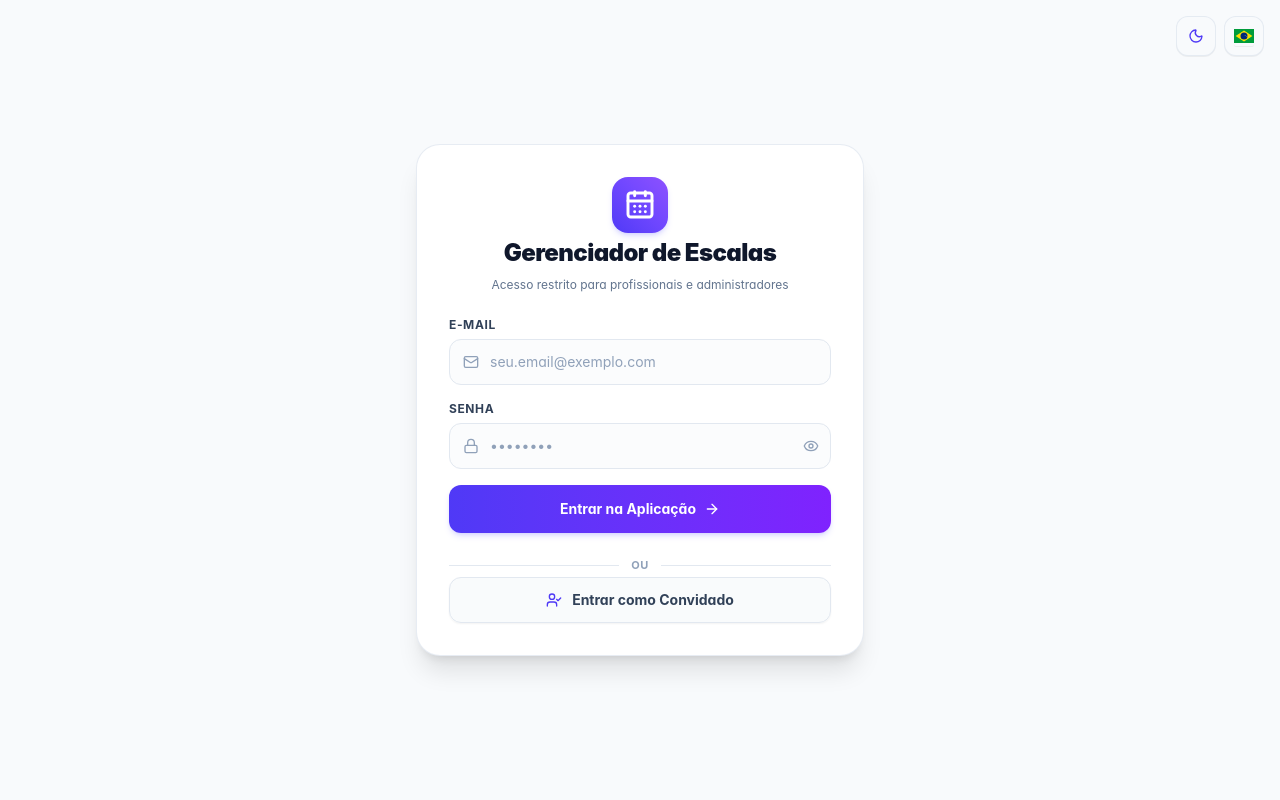
it: LoginPage › opens the guest modal and lists the saved accounts
The image size is (1280, 800).
Note: Open modal
Click the button with test id "enter-as-guest-btn" at (640, 600), box [449, 577, 831, 623]
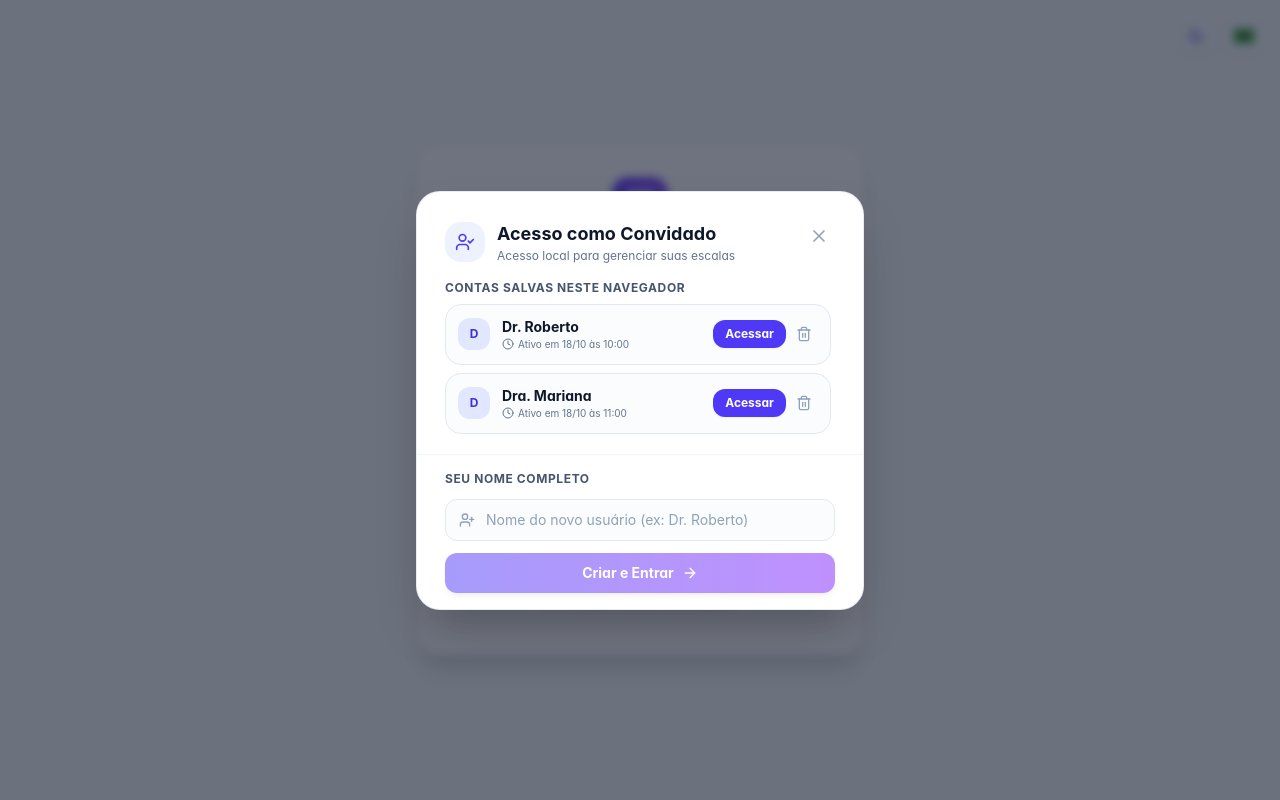
Expected: the dialog with test id "guest-modal" is shown
Expected: the text "Dr. Roberto" is shown, [502, 318, 579, 334]
Expected: the text "Dra. Mariana" is shown, [502, 386, 592, 404]
